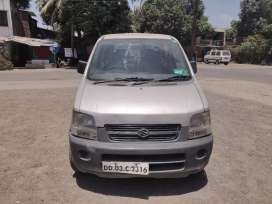license_plate: (100, 159, 150, 174)
